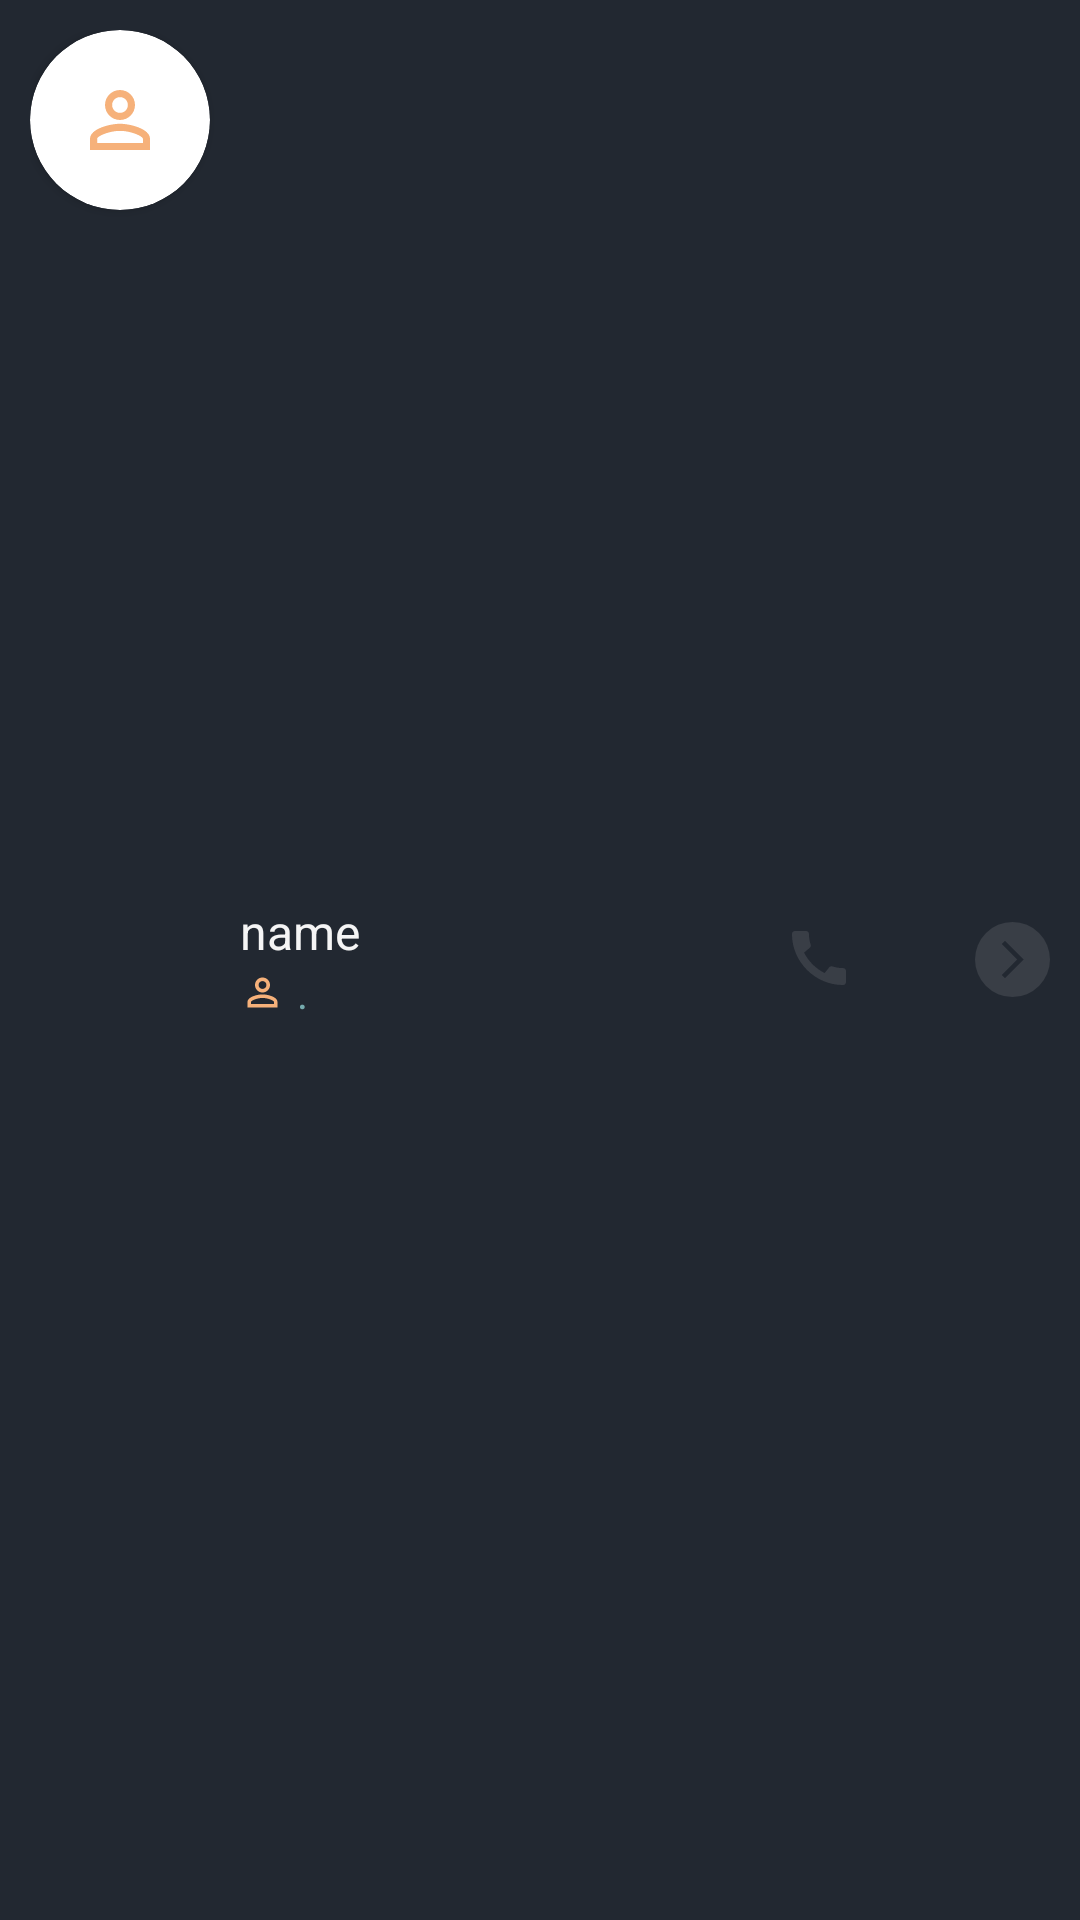

Where to tap for icons on this 1080w x 1920h app screen, as (x,y):
contact: (120,120), (262,992)
